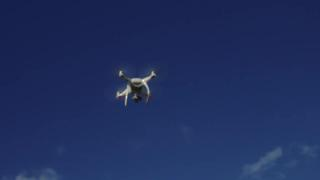UAV: (116, 70, 157, 107)
